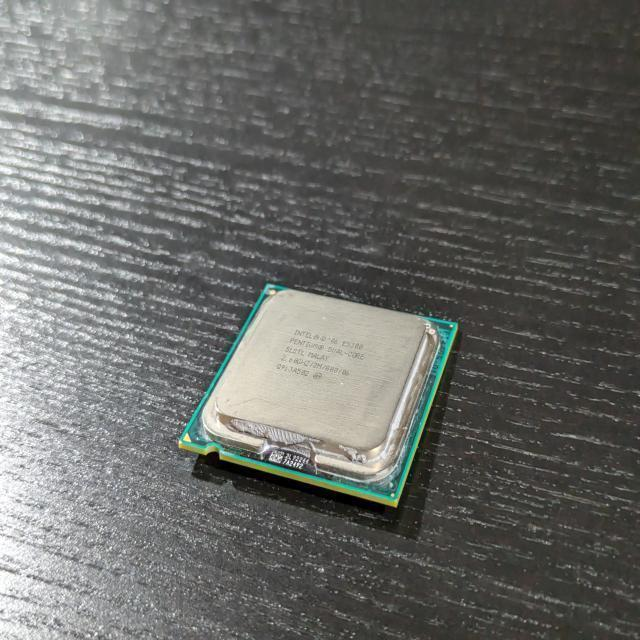CPU: (178, 280, 459, 510)
